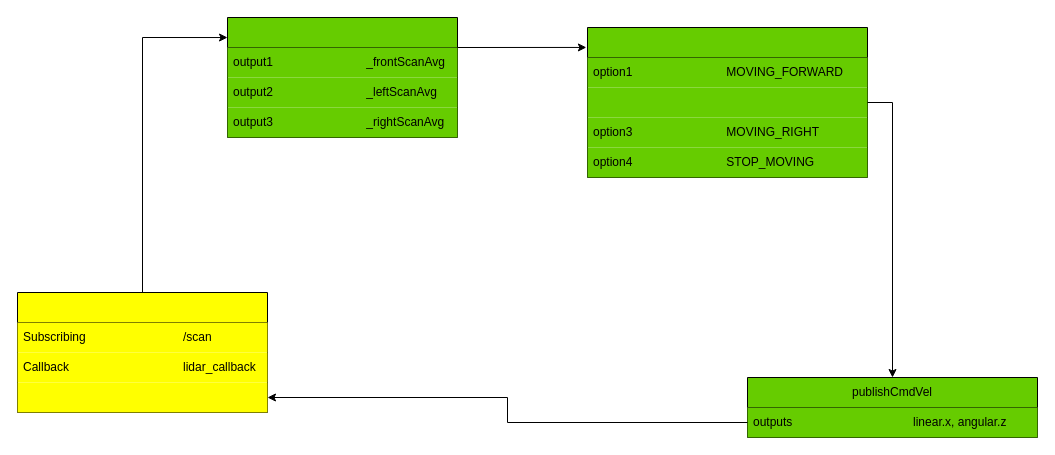
The diagram is 1055 pixels wide and 455 high, and some of its shapes have lost their labels. Each missing label, with the box of its shape:
analyseLidarData: (226, 16, 458, 138)
determineState: (586, 26, 868, 178)
option2 MOVING_LEFT: (587, 87, 867, 117)
Publishing /cmd_vel: (17, 382, 267, 412)
wall_following: (16, 292, 268, 412)
